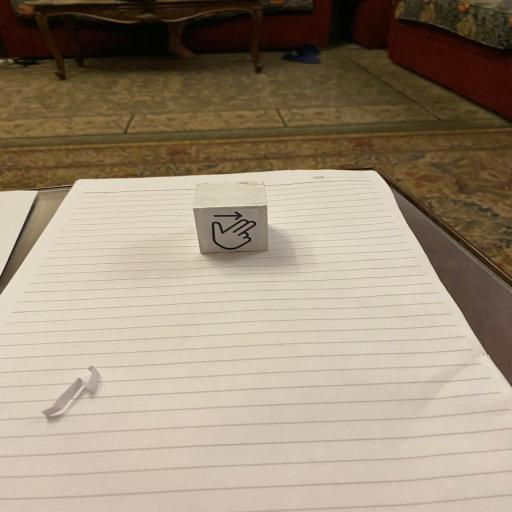RightSwipe: (190, 179, 272, 255)
